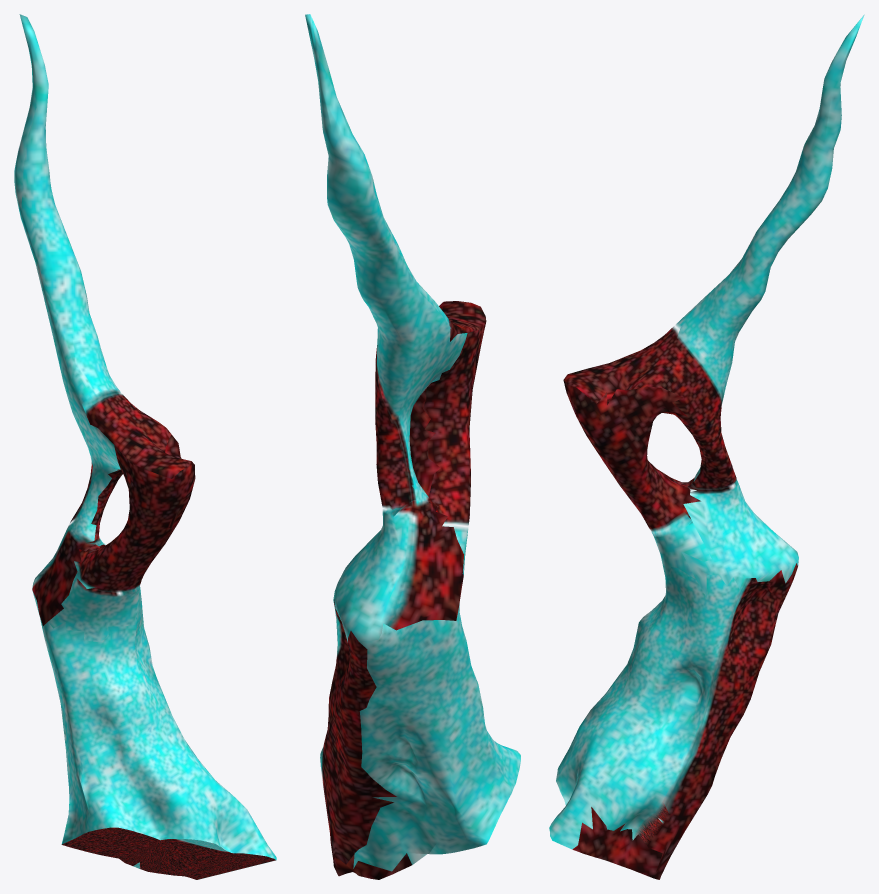
3 renders of one model, left to right at view 1: azimuth 30°, elevation 25°; view 2: azimuth 150°, elevation 25°; view 3: azimuth 270°, elevation 25°, orthographic. The views are drawn at different scales.
Visible parts, largest first — view 1: SM_VFX_Withered_Spike_01_LOD0; view 2: SM_VFX_Withered_Spike_01_LOD0; view 3: SM_VFX_Withered_Spike_01_LOD0.
Boxes of the visible parts, x1,y1,x2,y2 form: SM_VFX_Withered_Spike_01_LOD0: [14, 14, 276, 879]; SM_VFX_Withered_Spike_01_LOD0: [305, 14, 520, 879]; SM_VFX_Withered_Spike_01_LOD0: [549, 14, 864, 879].
Bounding box in the file's own units: 4.72 × 22.2 × 7.67.
1 material, 1 textured.
